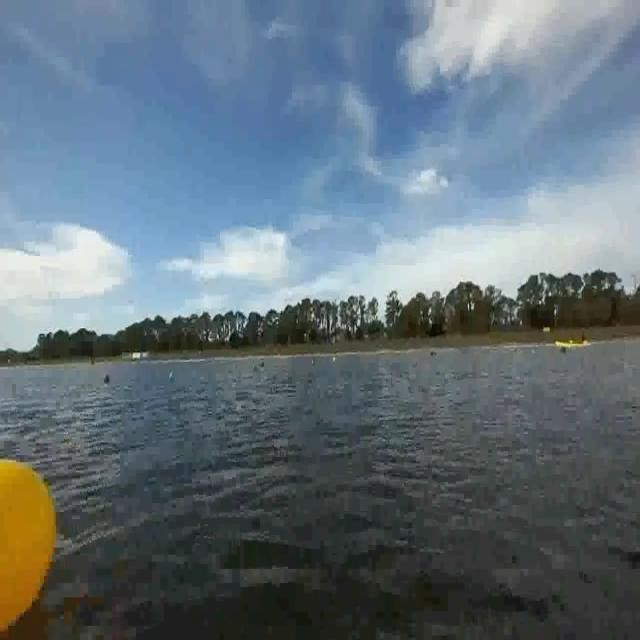yellow-buoy: (0, 453, 60, 640)
